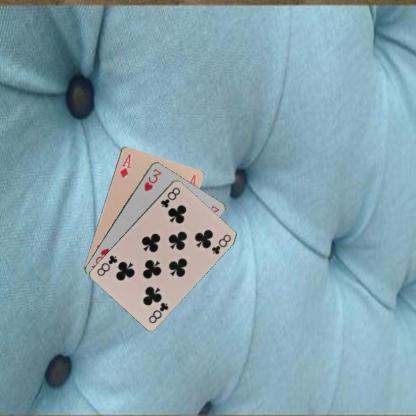3h: (141, 166, 163, 192)
8c: (146, 299, 170, 324), (158, 184, 181, 209)
Ad: (117, 151, 132, 179)
